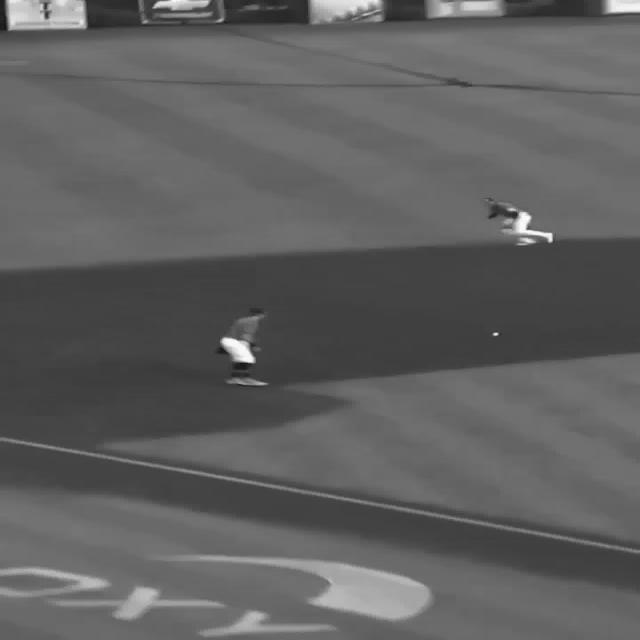baseball: (490, 331, 500, 337)
shoe: (237, 378, 267, 386), (224, 377, 240, 384), (545, 232, 553, 242)
